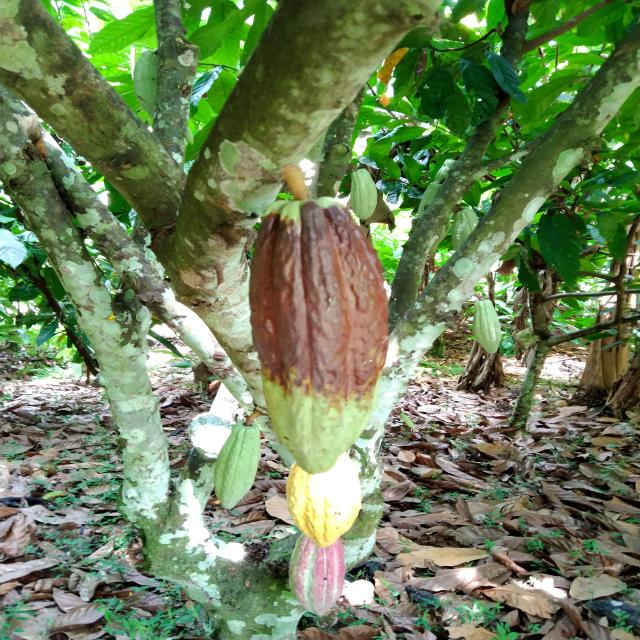Fitoftora: (245, 192, 390, 482)
Sana: (296, 457, 357, 550), (288, 526, 346, 620), (205, 418, 262, 508), (469, 299, 502, 355), (351, 167, 375, 219)
